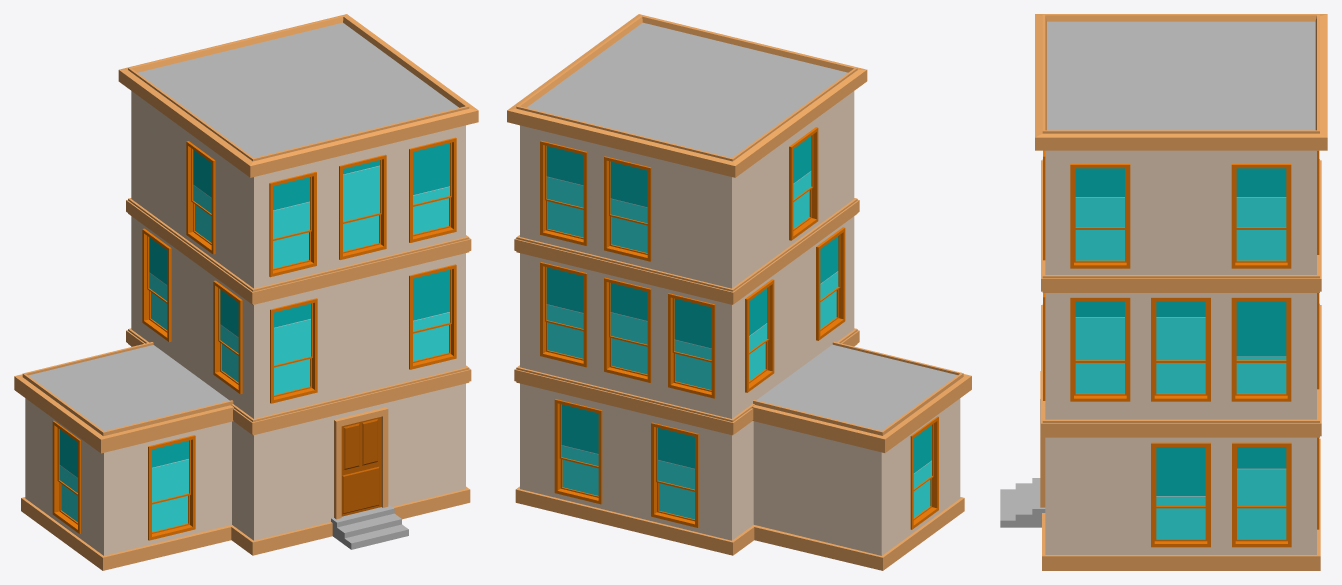
The model's file is SM_House_03_01.FBX.
The picture shows the model from 3 angles, left to right: view 1: azimuth 30°, elevation 25°; view 2: azimuth 150°, elevation 25°; view 3: azimuth 270°, elevation 25°; orthographic projection. The views are drawn at different scales.
Parts seen in each view (by area): view 1: SM_House_03; view 2: SM_House_03; view 3: SM_House_03.
Part boxes in pixels (x1,y1,x2,y2): SM_House_03: (14, 14, 478, 570); SM_House_03: (507, 14, 971, 570); SM_House_03: (1000, 14, 1327, 570).
Bounding box in the file's own units: 6.7 × 7.14 × 4.81.
1 material, 1 textured.
